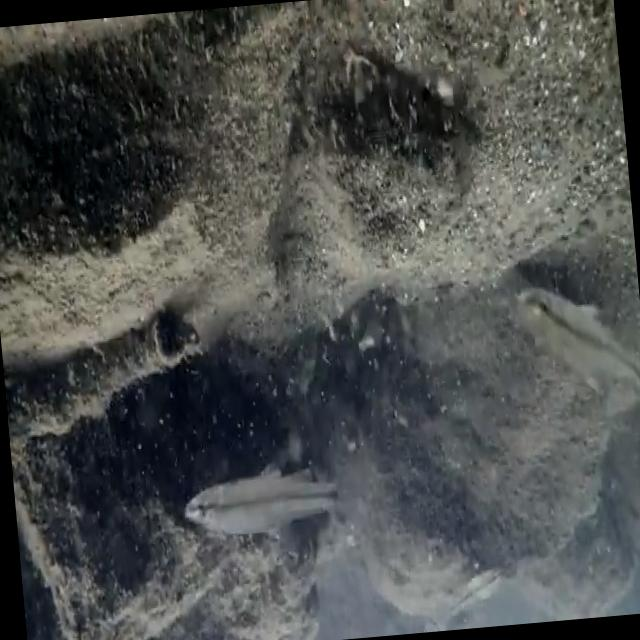Cakil Baligi: (177, 455, 378, 560), (516, 271, 640, 413)
